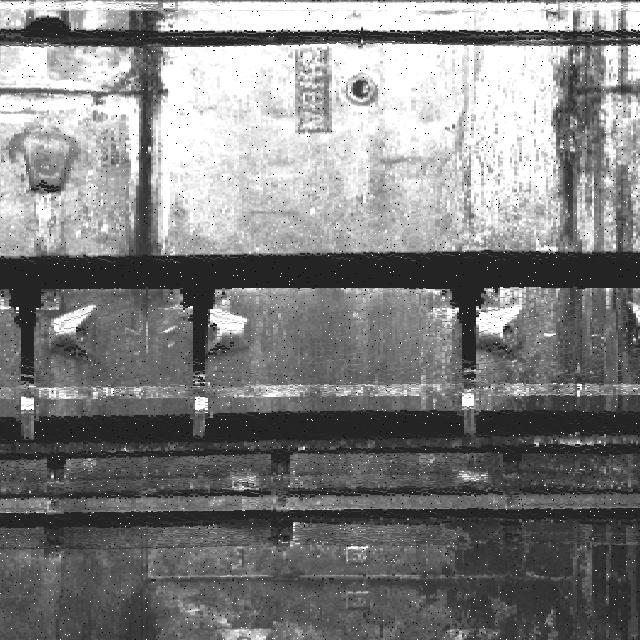leakage: (538, 7, 640, 409), (102, 0, 182, 249)
